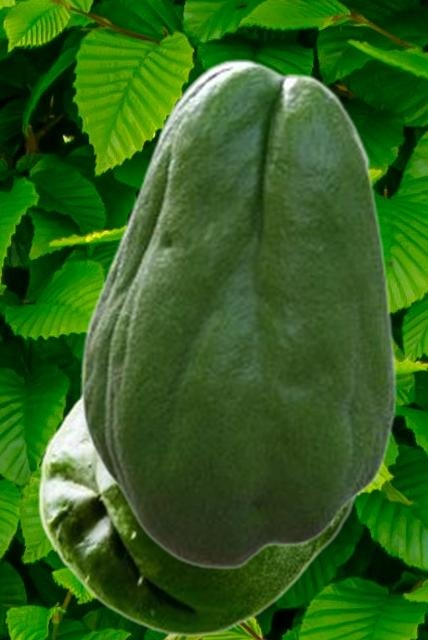sayote: (80, 59, 397, 569), (37, 391, 360, 636)
